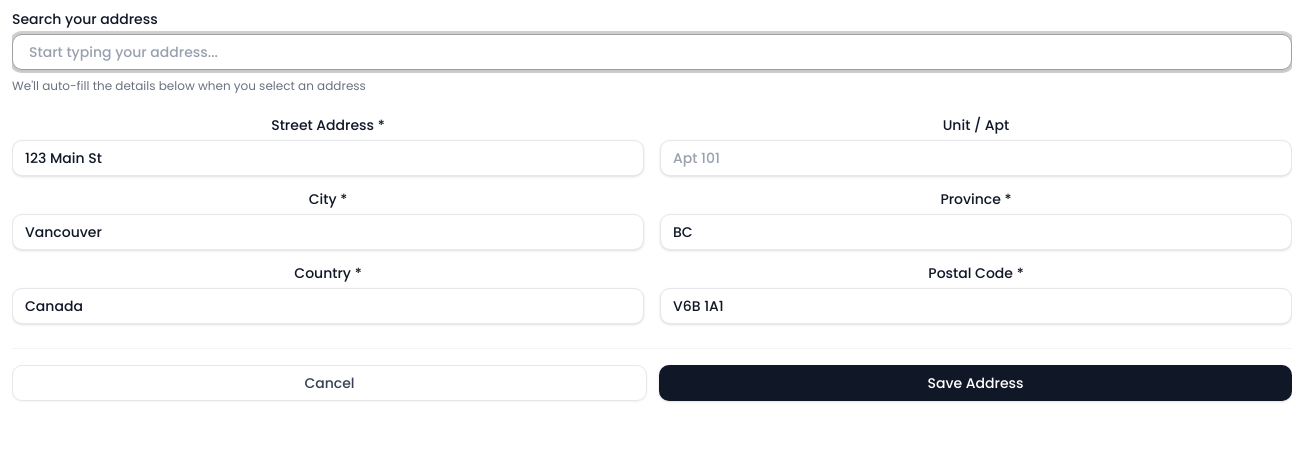
AddressForm › validates Province is Ontario
The width and height of the screenshot is (1304, 463).
Click the button "Save Address": (976, 383) [659,365,1292,401]
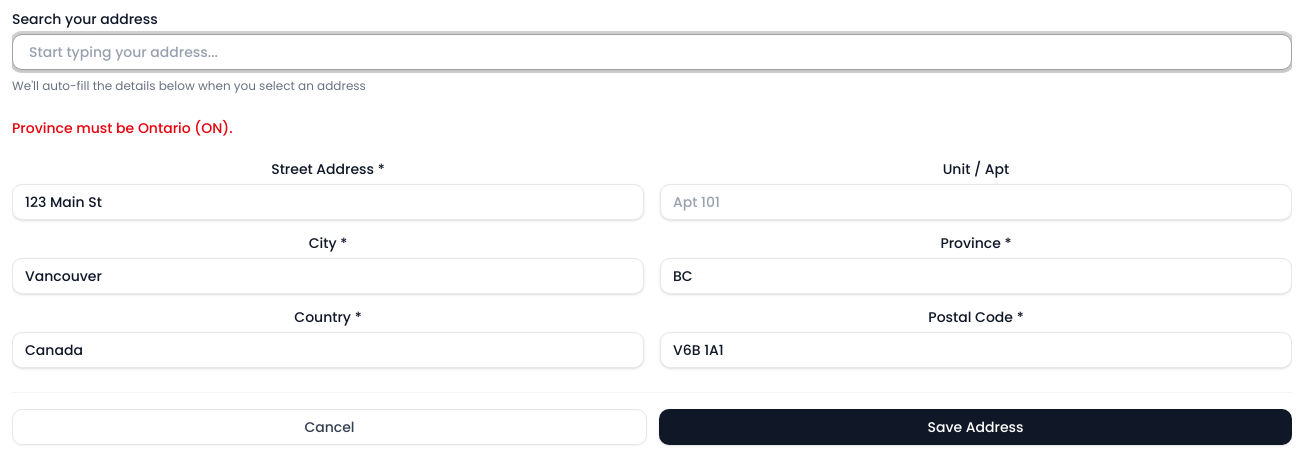
Now the text "Province must be Ontario (ON)." is shown, box [12,118,232,138]
